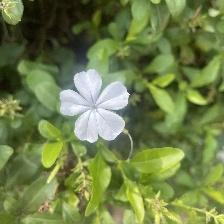chitrak: (56, 68, 132, 144)
